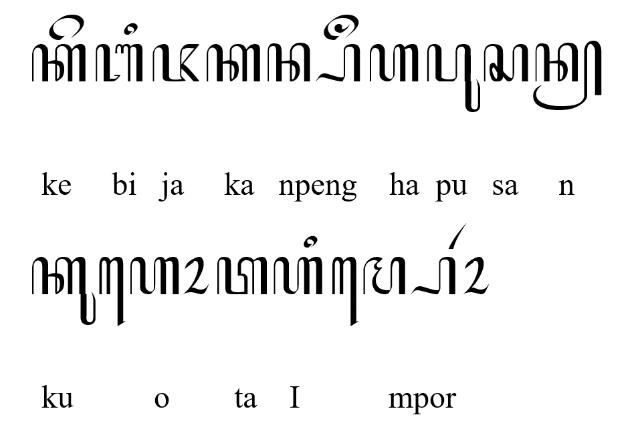-n: (532, 40, 602, 110)
_p: (410, 257, 456, 297), (315, 43, 361, 82)
_r1: (447, 222, 467, 250)
b: (95, 44, 143, 82)
e: (49, 14, 85, 40)
e1: (99, 257, 125, 327), (332, 257, 358, 327)
eng: (323, 13, 359, 40)
h: (273, 256, 323, 296), (369, 43, 418, 82), (130, 258, 180, 296)
i: (124, 22, 138, 36), (303, 236, 317, 248)
j: (152, 43, 200, 82)
k: (32, 43, 86, 82), (206, 44, 260, 82)
ku: (32, 256, 96, 326)
m: (363, 256, 407, 296)
n: (267, 42, 311, 82)
o: (182, 256, 210, 296), (462, 256, 490, 296)
pu: (426, 44, 482, 112)
s: (483, 43, 529, 82)
t: (216, 258, 268, 296)
